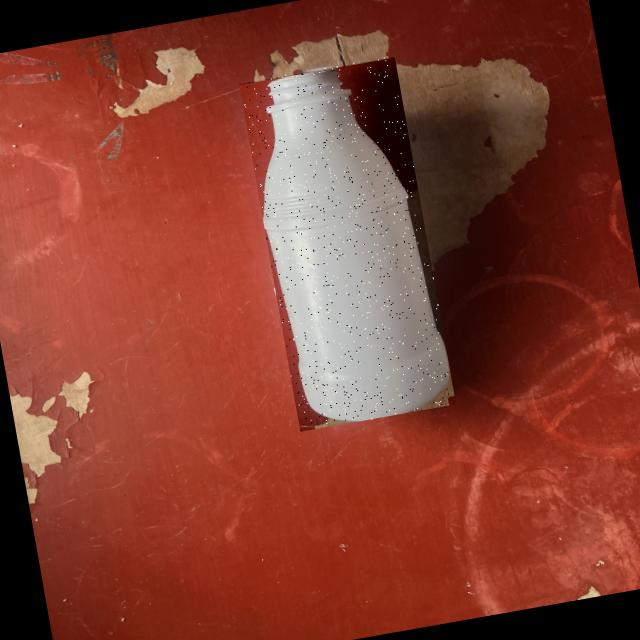HDPE_Bottle: (263, 69, 448, 421)
